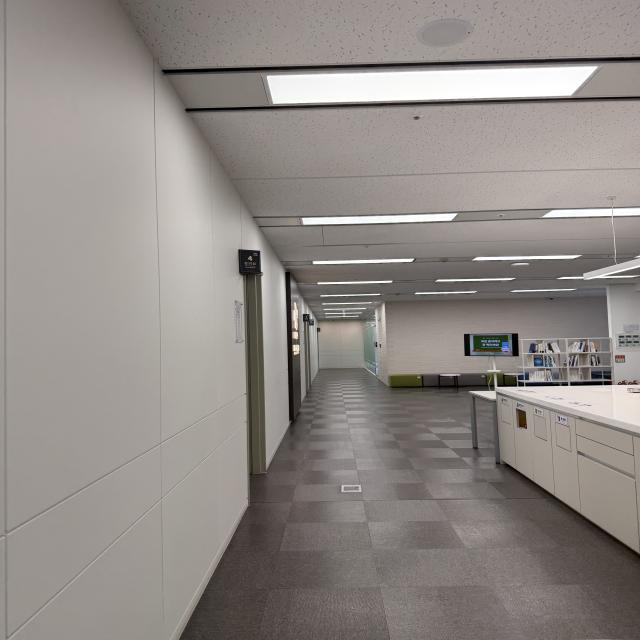room4: (238, 250, 262, 274)
